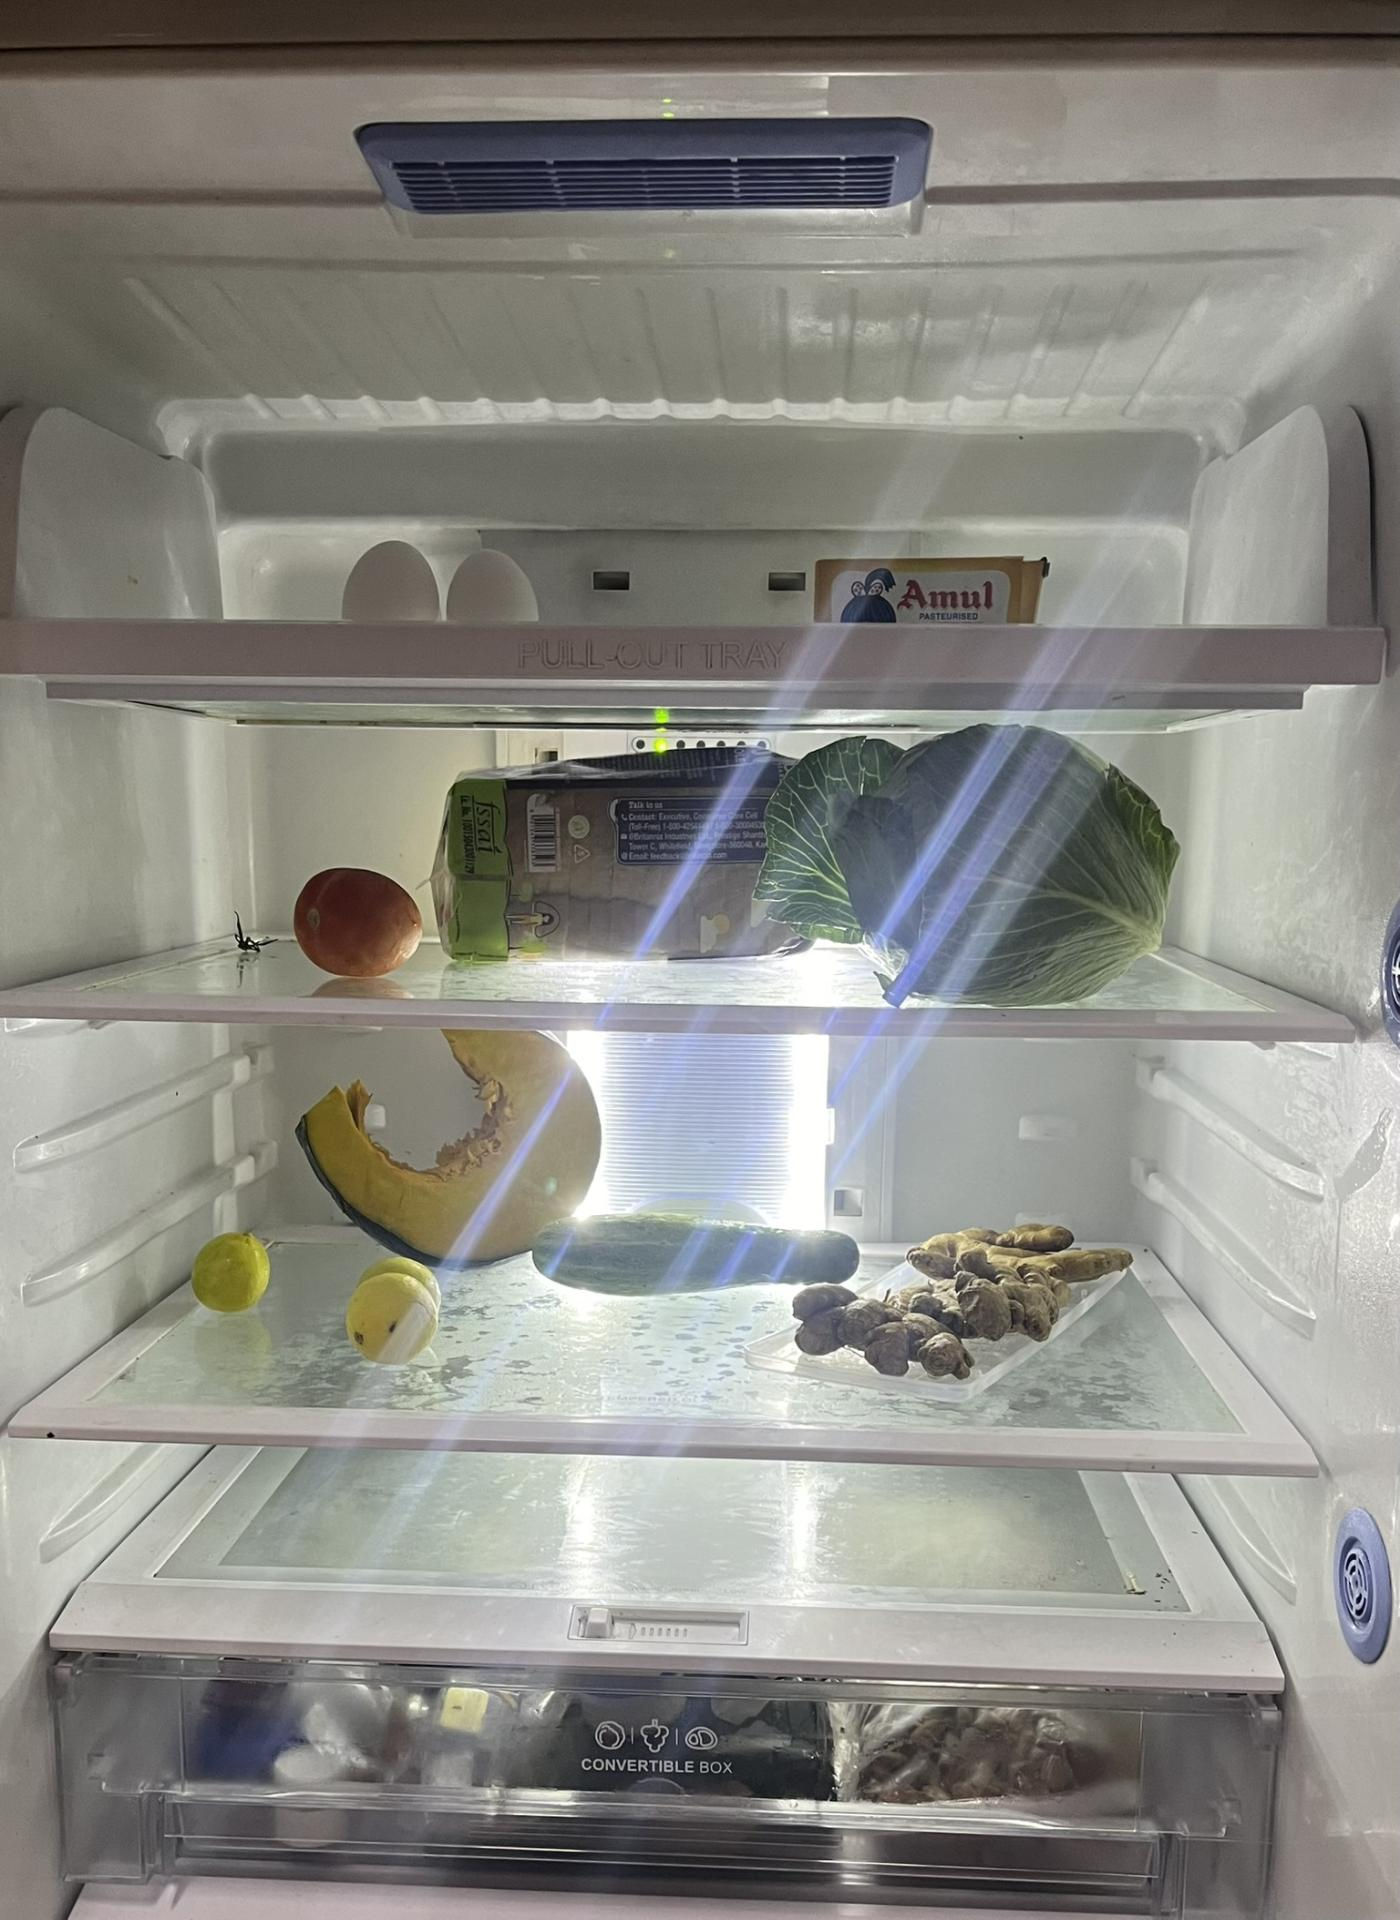bread: (434, 753, 835, 972)
butter: (808, 544, 1057, 634)
cabbage: (750, 721, 1176, 1000)
cucumber: (538, 1213, 872, 1303)
egg: (337, 525, 547, 628)
ginger: (796, 1283, 1054, 1377), (902, 1216, 1139, 1285)
lemon: (352, 1257, 446, 1371), (188, 1231, 267, 1313)
pumpkin: (298, 1026, 617, 1263)
tomato: (282, 866, 422, 978)
